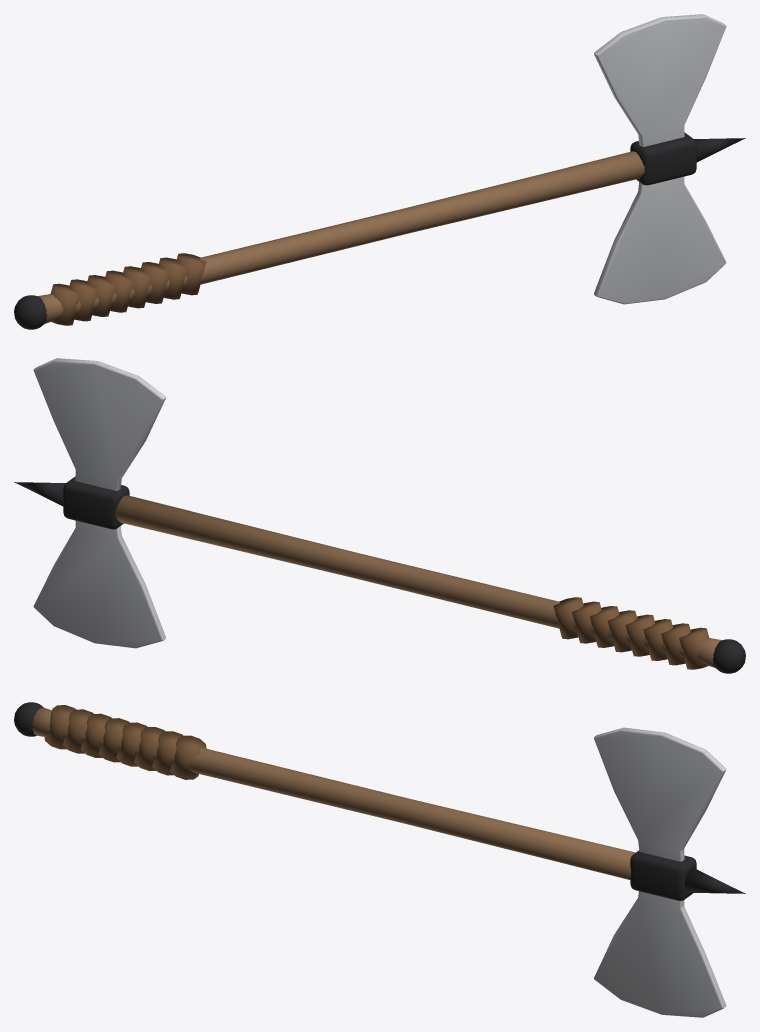
Rendered from SM_DaneAxe.glb.
3 views of the same model, one above another, from view 1: azimuth 30°, elevation 25°; view 2: azimuth 150°, elevation 25°; view 3: azimuth 330°, elevation 25° (orthographic).
Visible parts, largest first — view 1: SM_DaneAxe; view 2: SM_DaneAxe; view 3: SM_DaneAxe.
Boxes of the visible parts, x1,y1,x2,y2 form: SM_DaneAxe: [14, 14, 745, 329]; SM_DaneAxe: [14, 358, 745, 673]; SM_DaneAxe: [14, 702, 745, 1017].
Bounding box in the file's own units: 1.06 × 0.39 × 0.044.
